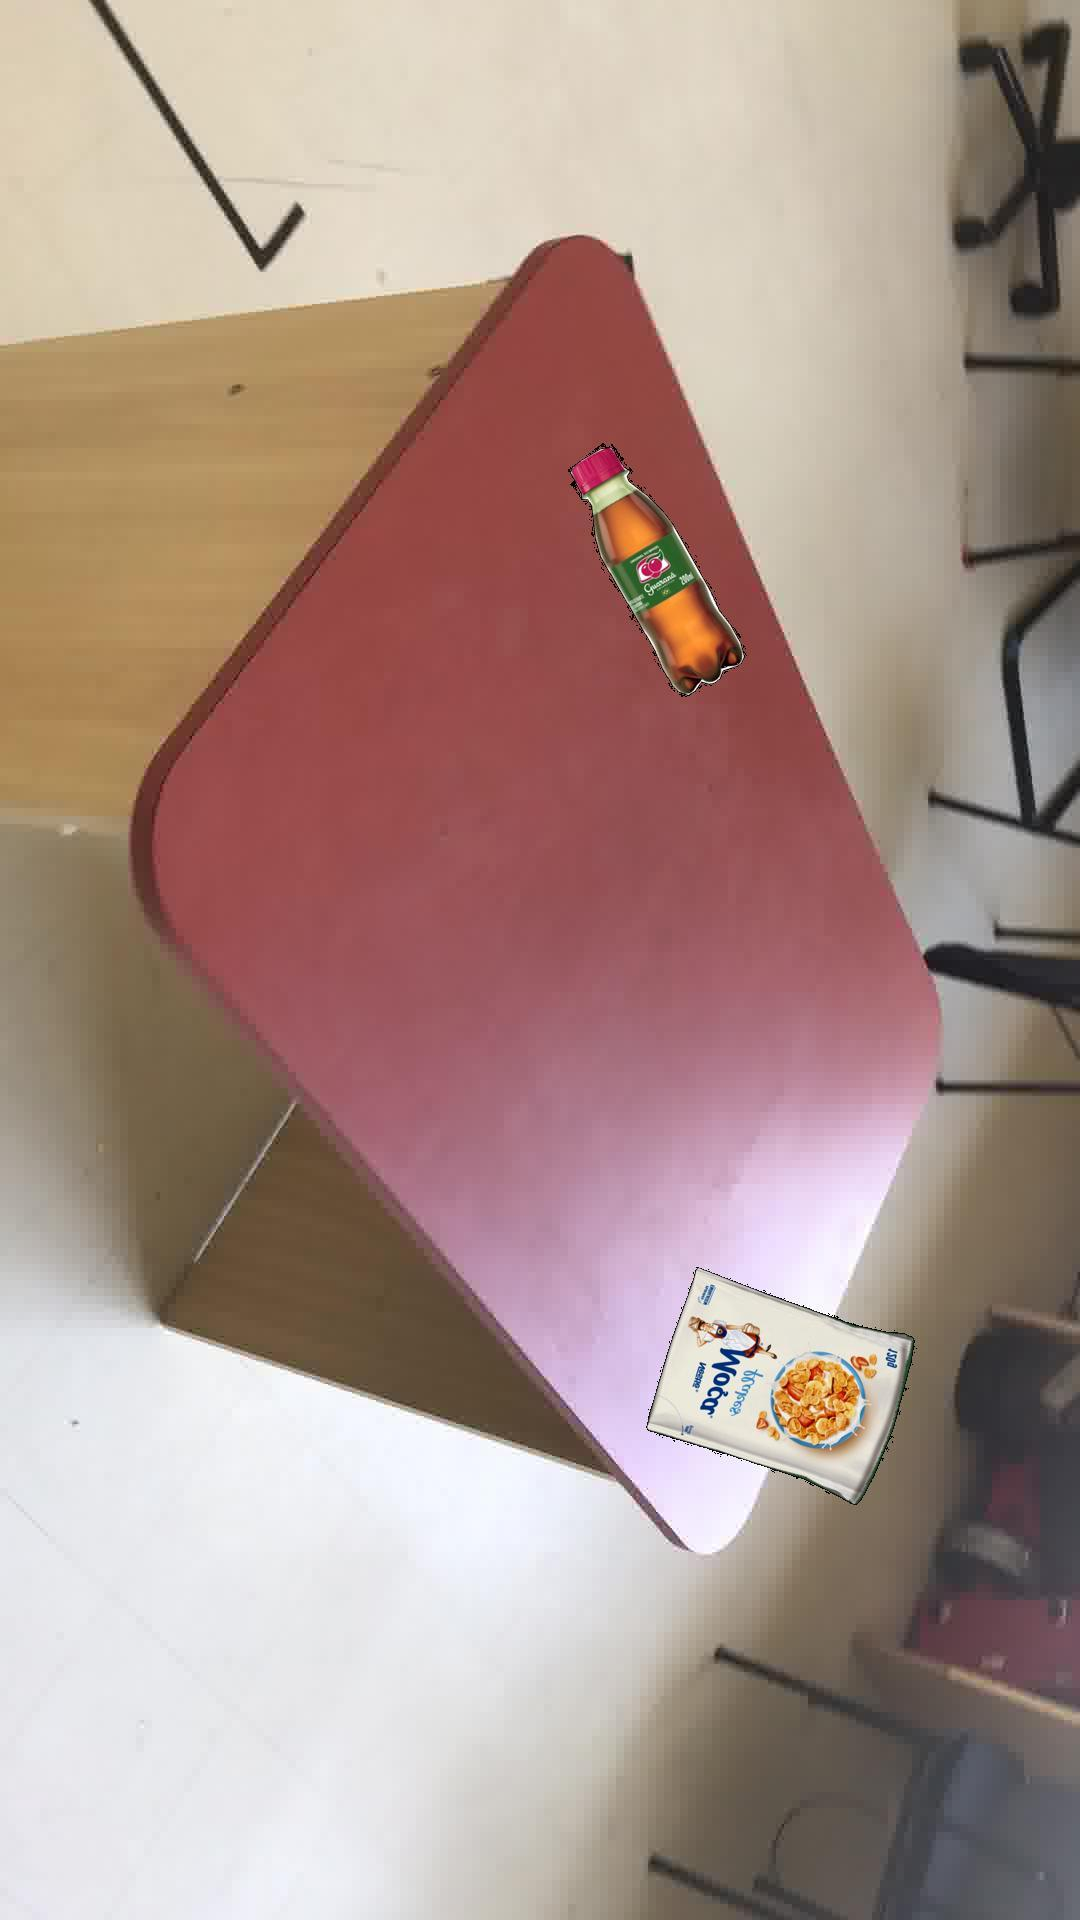corn flakes: (645, 1266, 914, 1503)
guarana: (567, 442, 744, 695)
